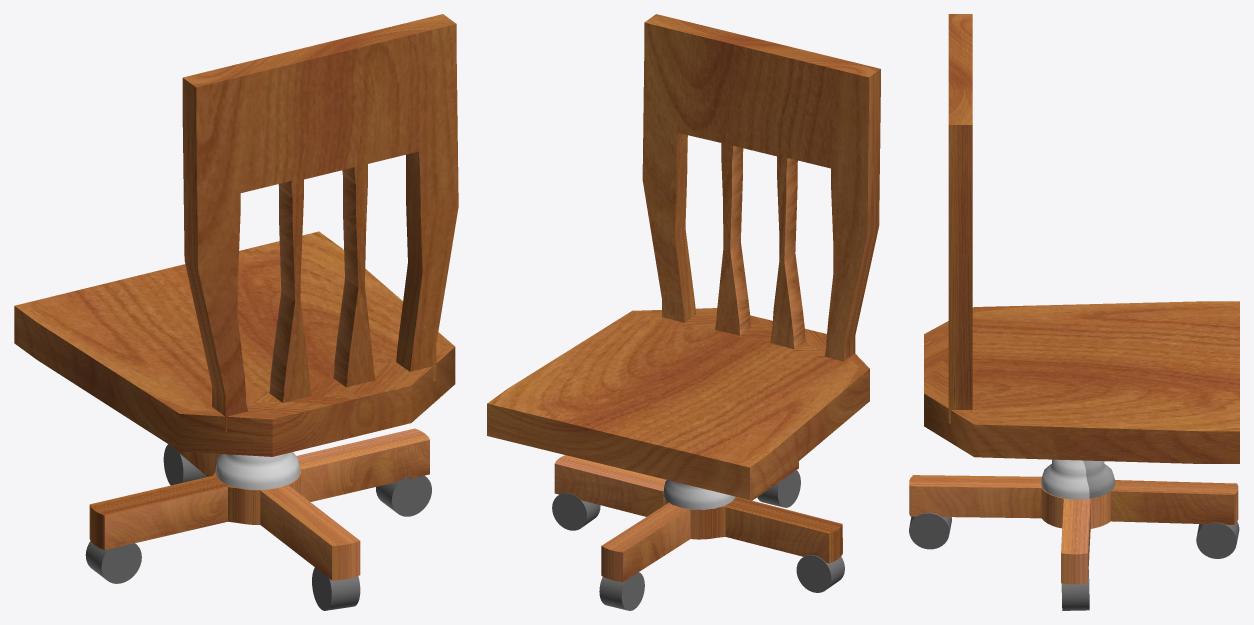
Rendered from Silla.obj.
3 renders of one model, left to right at view 1: azimuth 30°, elevation 25°; view 2: azimuth 150°, elevation 25°; view 3: azimuth 270°, elevation 25°, orthographic. The views are drawn at different scales.
Visible parts, largest first — view 1: Cylinder06; view 2: Cylinder06; view 3: Cylinder06.
Part boxes in pixels (bbox=[...]): Cylinder06: bbox=[14, 14, 458, 610]; Cylinder06: bbox=[487, 14, 880, 610]; Cylinder06: bbox=[909, 14, 1239, 610].
Bounding box in the file's own units: 3.36 × 5.36 × 3.37.
3 materials, 2 textured.
